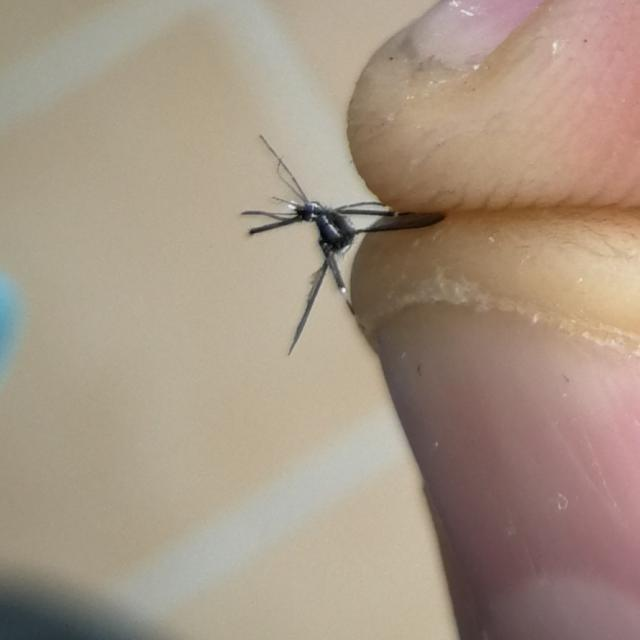albopictus: (232, 120, 444, 361)
